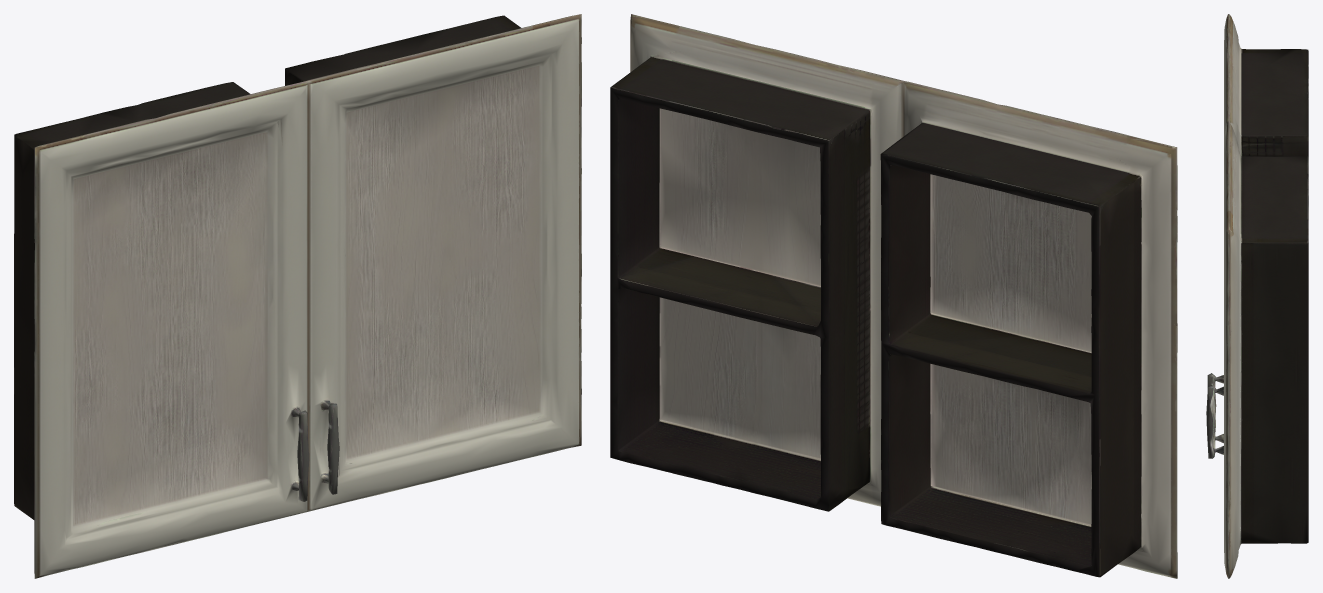
3 renders of one model, left to right at view 1: azimuth 30°, elevation 25°; view 2: azimuth 150°, elevation 25°; view 3: azimuth 270°, elevation 25°, orthographic. The views are drawn at different scales.
Parts seen in each view (by area): view 1: Mesh_0; view 2: Mesh_0; view 3: Mesh_0.
Part boxes in pixels (x1,y1,x2,y2): Mesh_0: [14, 14, 581, 578]; Mesh_0: [610, 14, 1177, 578]; Mesh_0: [1206, 14, 1308, 578].
Size of the model in its own units: 1.91 by 1.44 by 0.3822.
Materials: 1 (1 with a texture image).
